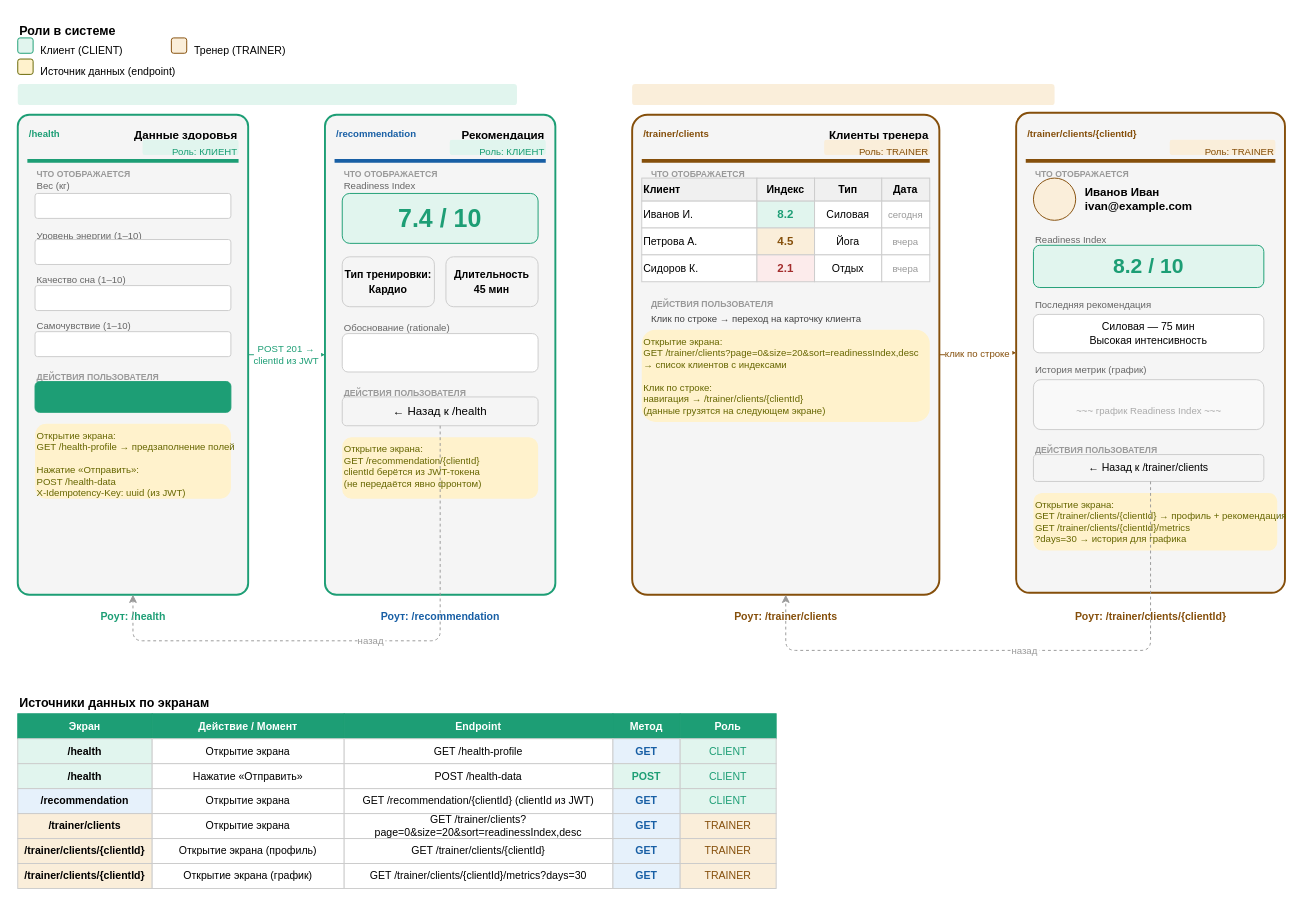
This 1303x905 diagram has some shape labels left out. The centre of each missing label's shape, as x and y in pixels:
"ИИ" goes at point 1054,198.
"Отправить" goes at point 132,396.
"Сценарий 1: Клиент вводит данные здоровья и получает рекомендацию" goes at point 266,94.
"Сценарий 2: Тренер просматривает клиентов и их показатели" goes at point 843,94.
